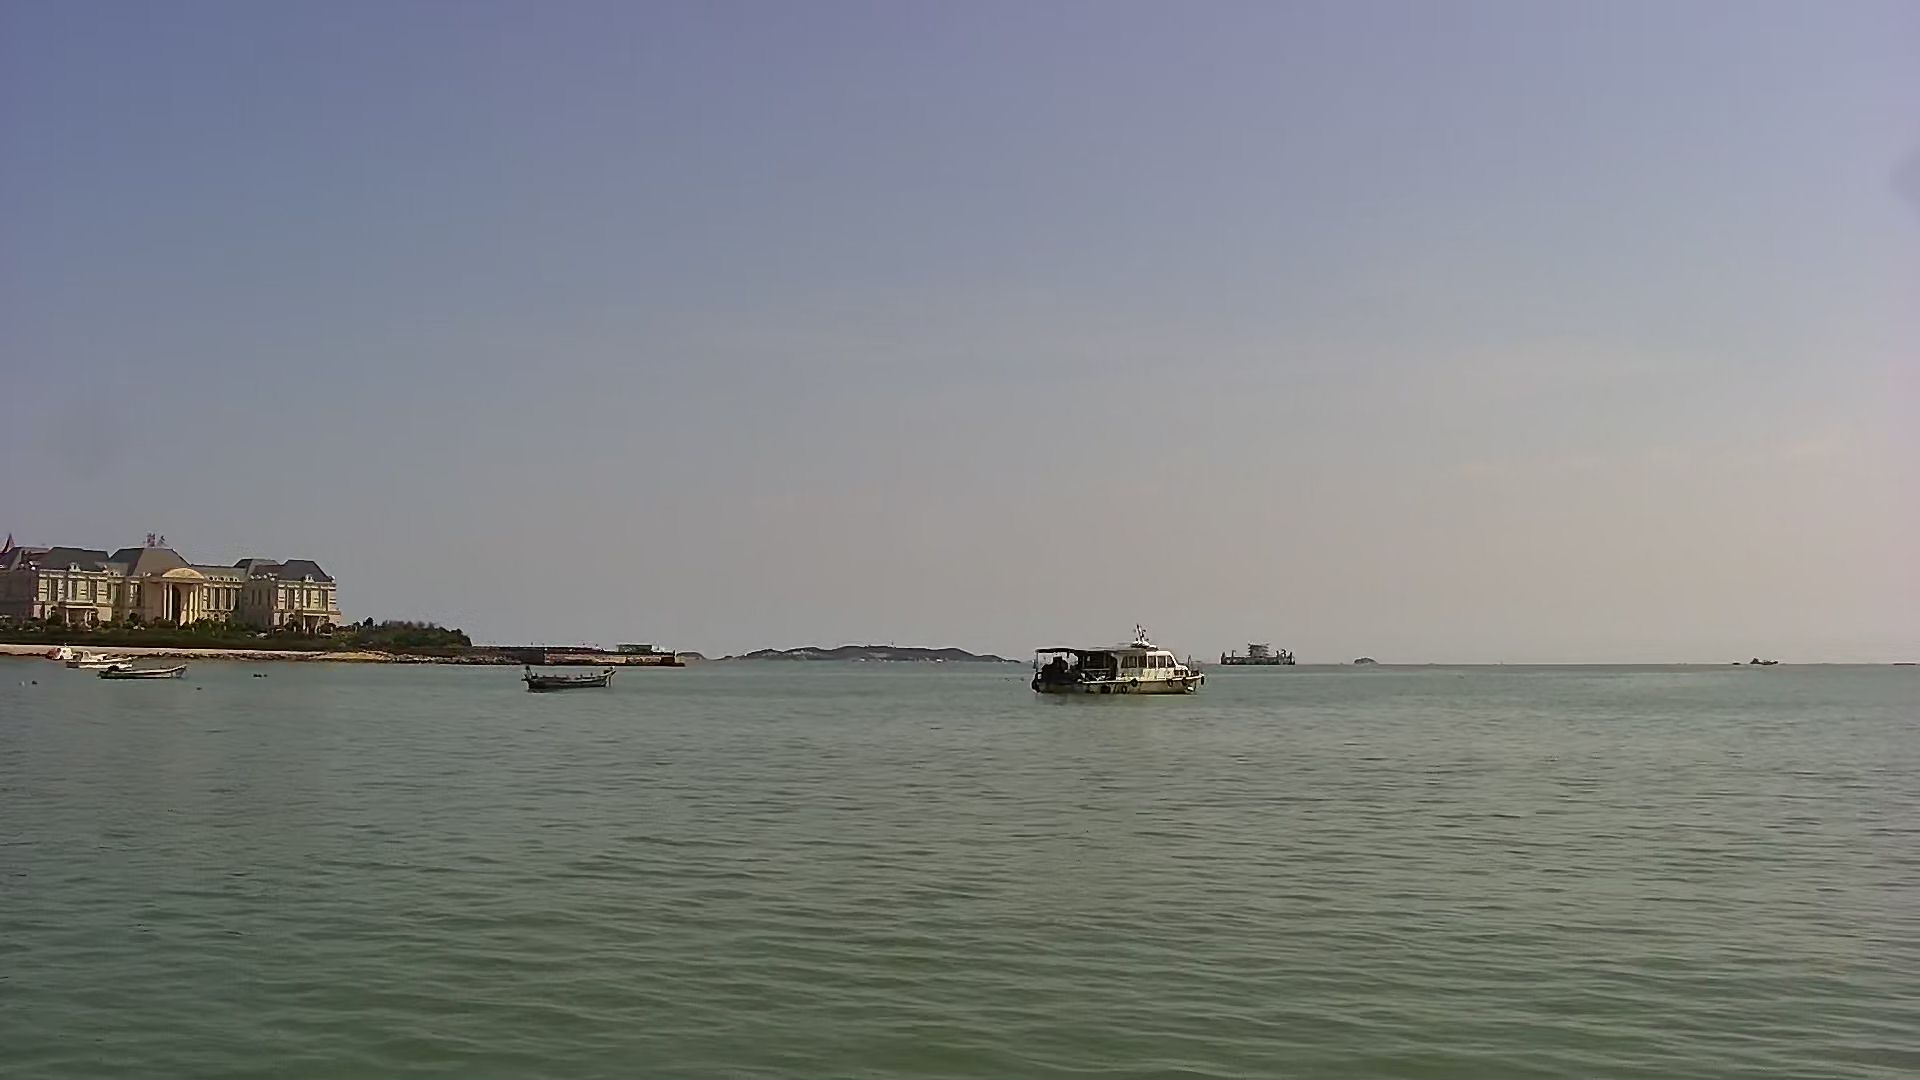boat: (514, 661, 621, 691), (99, 658, 193, 686), (59, 647, 138, 671)
platform: (1221, 640, 1298, 669)
ship: (1029, 622, 1208, 698)
